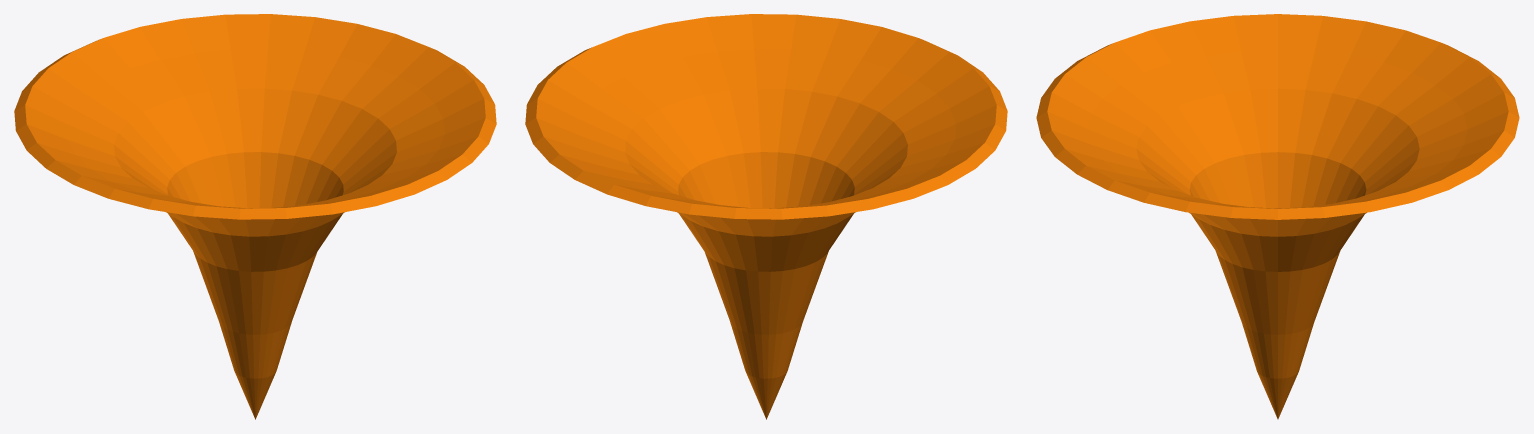
Rendered from fonopavillon.glb.
3 views of the same model, side by side, from view 1: azimuth 30°, elevation 25°; view 2: azimuth 150°, elevation 25°; view 3: azimuth 270°, elevation 25° (orthographic).
Parts seen in each view (by area): view 1: Cube; view 2: Cube; view 3: Cube.
Boxes of the visible parts, <box> form: Cube: <box>14,14,496,419</box>; Cube: <box>525,14,1007,419</box>; Cube: <box>1036,14,1519,419</box>.
Bounding box in the file's own units: 1.37 × 0.9636 × 1.37.
Materials: 1 (1 with a texture image).
